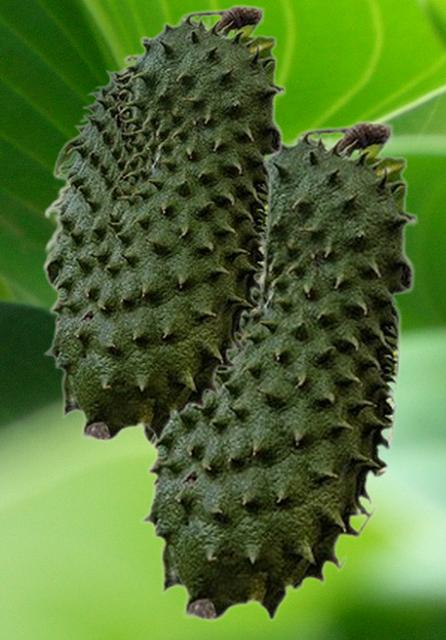guyabano: (137, 119, 417, 622), (41, 3, 285, 442)
